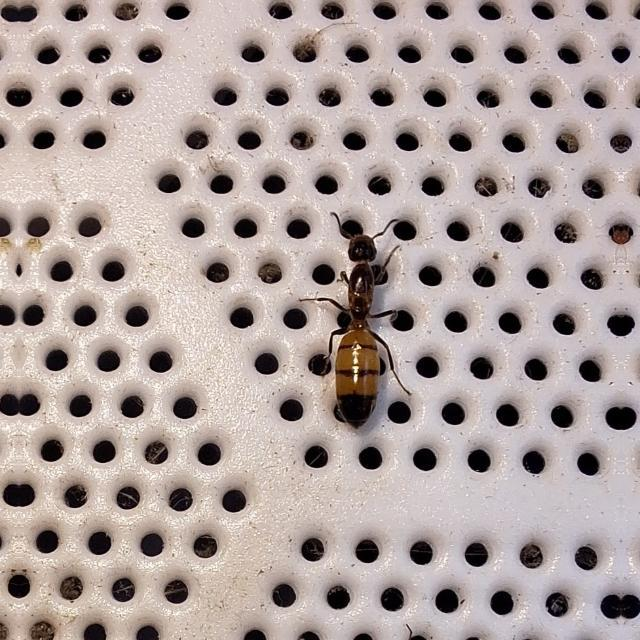Colobopsis: (308, 200, 422, 440)
